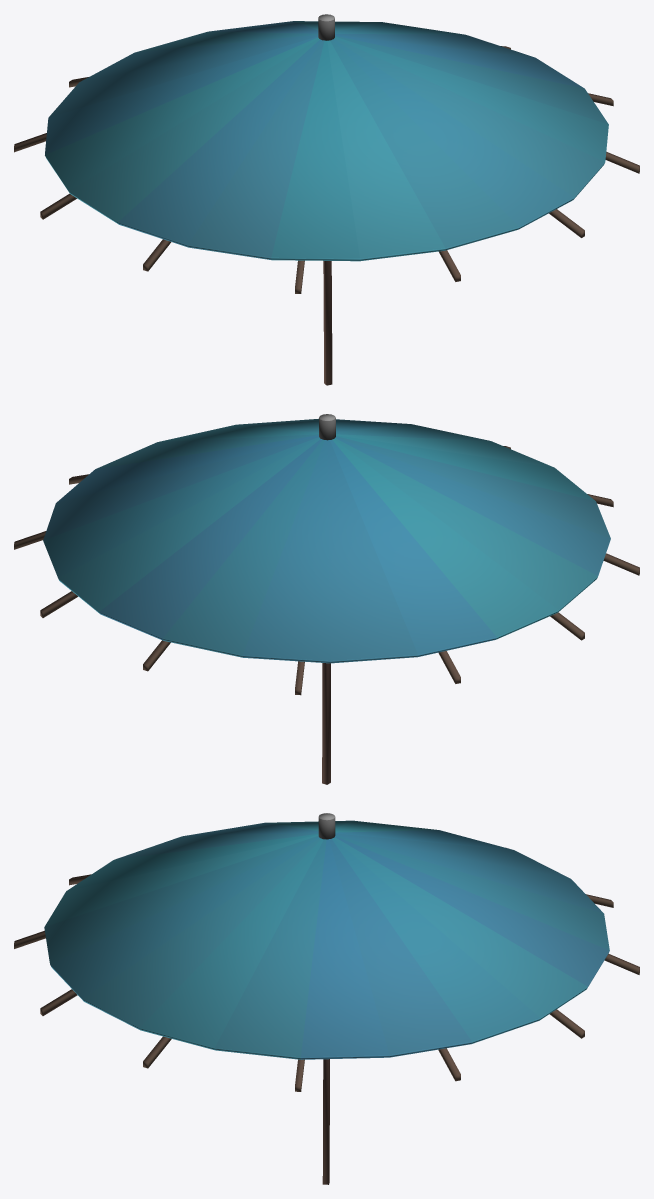
Rendered from furnishings-indoor-cocktailumbrella_v1.glb.
3 views of the same model, one above another, from view 1: azimuth 30°, elevation 25°; view 2: azimuth 150°, elevation 25°; view 3: azimuth 270°, elevation 25° (orthographic).
Parts seen in each view (by area): view 1: CocktailUmbrella_color, CocktailUmbrella_base; view 2: CocktailUmbrella_color, CocktailUmbrella_base; view 3: CocktailUmbrella_color, CocktailUmbrella_base.
Part boxes in pixels (left/top/right/bottom): CocktailUmbrella_color: left=45, top=21, right=608, bottom=261; CocktailUmbrella_base: left=14, top=14, right=639, bottom=385; CocktailUmbrella_color: left=43, top=418, right=610, bottom=663; CocktailUmbrella_base: left=14, top=414, right=639, bottom=784; CocktailUmbrella_color: left=44, top=820, right=609, bottom=1059; CocktailUmbrella_base: left=14, top=813, right=639, bottom=1184.
Size of the model in its own units: 0.1237 by 0.0798 by 0.1237.
